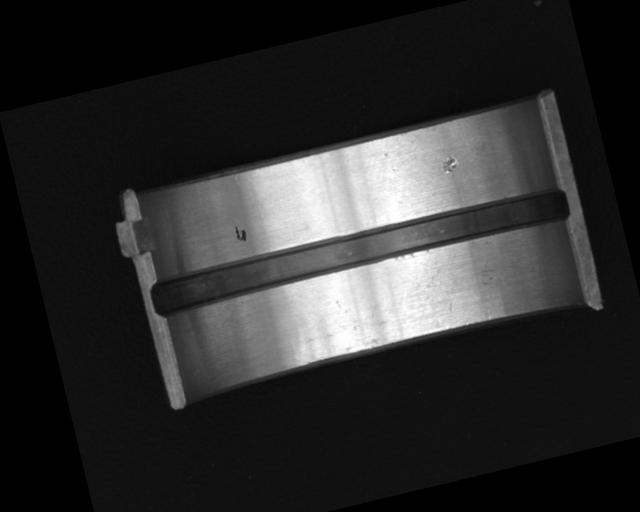blot: (232, 222, 248, 244)
bruise: (438, 153, 460, 176)
gap: (148, 179, 572, 319)
